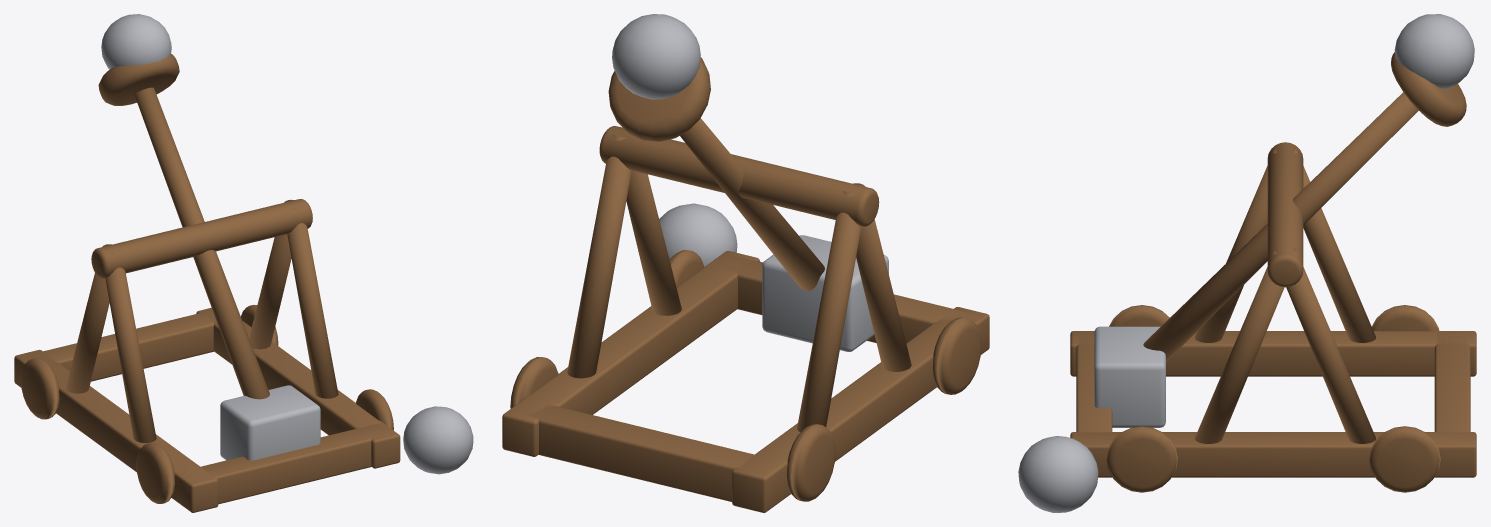
File: Catapult.fbx
3 renders of one model, left to right at view 1: azimuth 30°, elevation 25°; view 2: azimuth 150°, elevation 25°; view 3: azimuth 270°, elevation 25°, orthographic. The views are drawn at different scales.
Parts seen in each view (by area): view 1: Catapult, Count_2, Count_1; view 2: Catapult, Count_1, Count_2; view 3: Catapult, Count_2, Count_1.
Part boxes in pixels (left/top/right/bottom): Catapult: left=14, top=54, right=400, bottom=512; Count_2: left=403, top=406, right=473, bottom=474; Count_1: left=101, top=14, right=171, bottom=69; Catapult: left=502, top=57, right=989, bottom=512; Count_1: left=612, top=14, right=700, bottom=99; Count_2: left=659, top=203, right=737, bottom=266; Catapult: left=1070, top=52, right=1476, bottom=492; Count_2: left=1018, top=436, right=1098, bottom=512; Count_1: left=1394, top=14, right=1474, bottom=89.
Bounding box in the file's own units: 0.622 × 0.7686 × 0.767.
